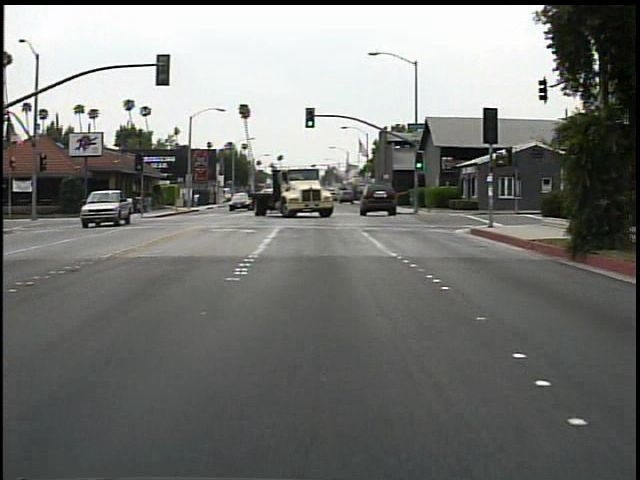person: (193, 188, 204, 209)
